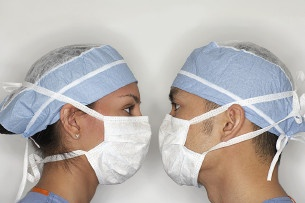Mask: (77, 89, 172, 184)
